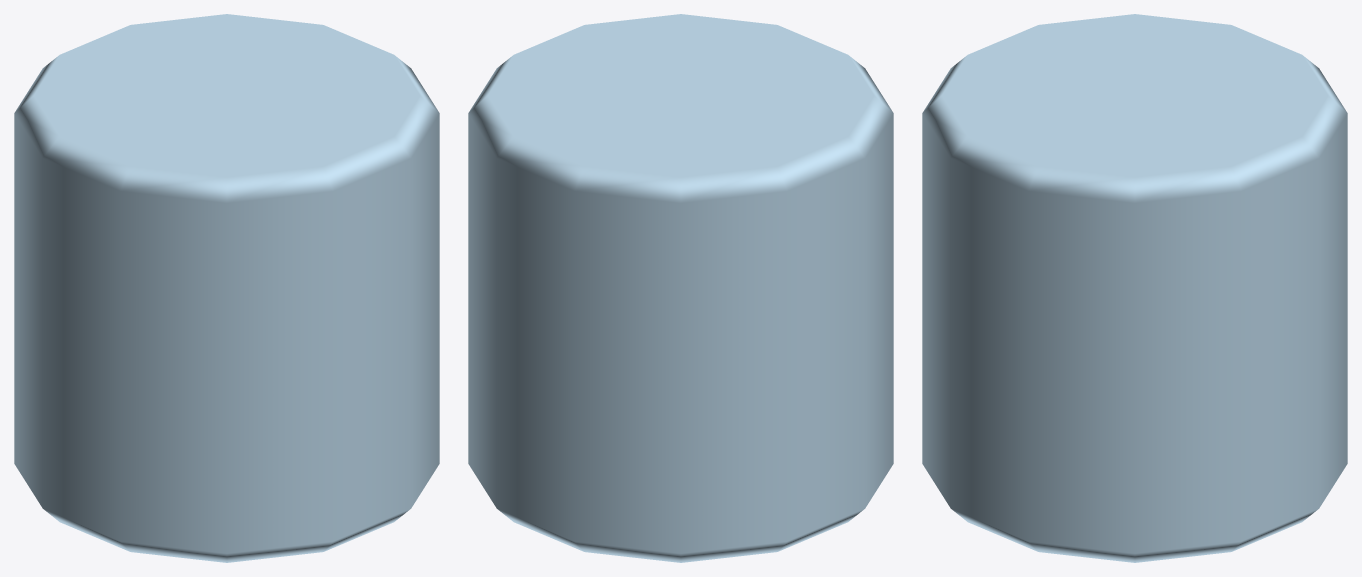
The picture shows the model from 3 angles, left to right: view 1: azimuth 30°, elevation 25°; view 2: azimuth 150°, elevation 25°; view 3: azimuth 270°, elevation 25°; orthographic projection.
Parts seen in each view (by area): view 1: R4B_Cylinder_LOD1; view 2: R4B_Cylinder_LOD1; view 3: R4B_Cylinder_LOD1.
Part boxes in pixels (x1=…): R4B_Cylinder_LOD1: x1=14, y1=14, x2=439, y2=562; R4B_Cylinder_LOD1: x1=468, y1=14, x2=893, y2=562; R4B_Cylinder_LOD1: x1=922, y1=14, x2=1347, y2=562.
Bounding box in the file's own units: 0.52 × 0.52 × 0.52.
